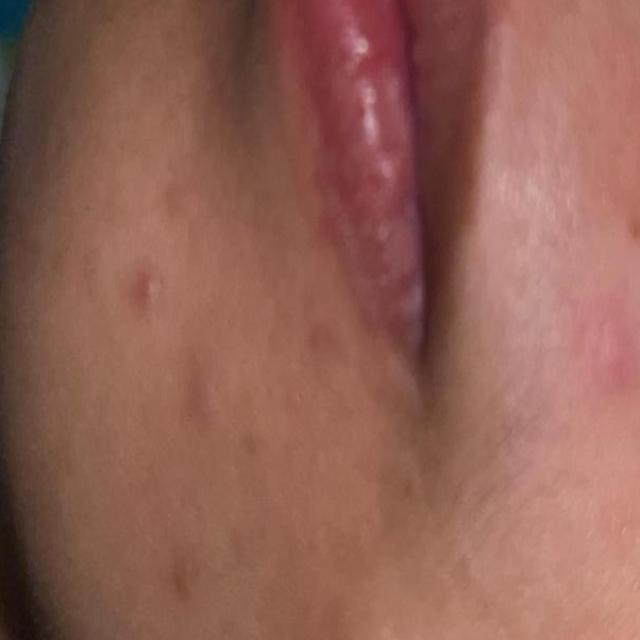papule: (158, 334, 243, 438), (572, 310, 640, 412)
pustule: (130, 258, 186, 309)
